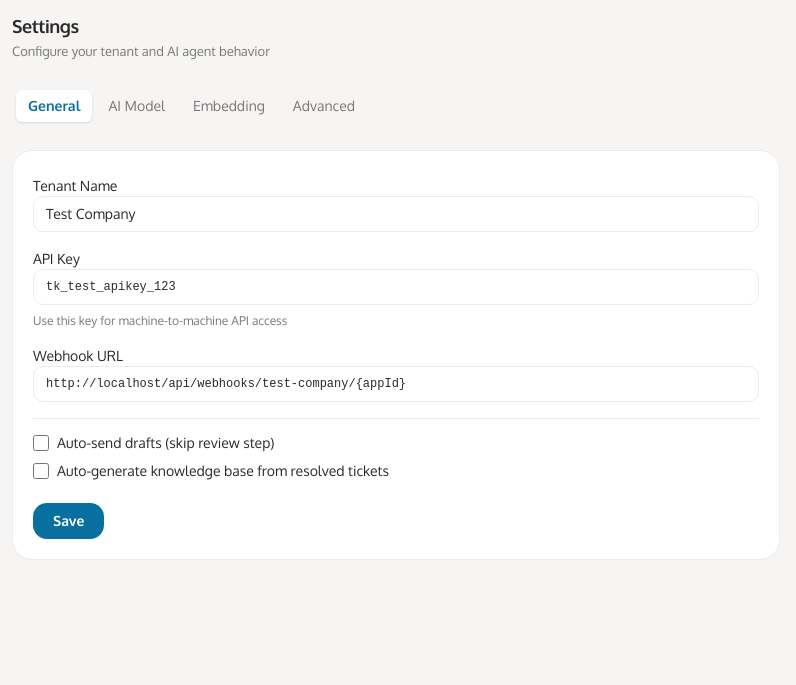
Test: Settings – AI Configuration tab › shows AI fields after clicking the tab
What coordinates should you click on to do the following:
click the tab "AI Model"
I would click on:
 (137, 106)
Its box is [96,90,177,122].
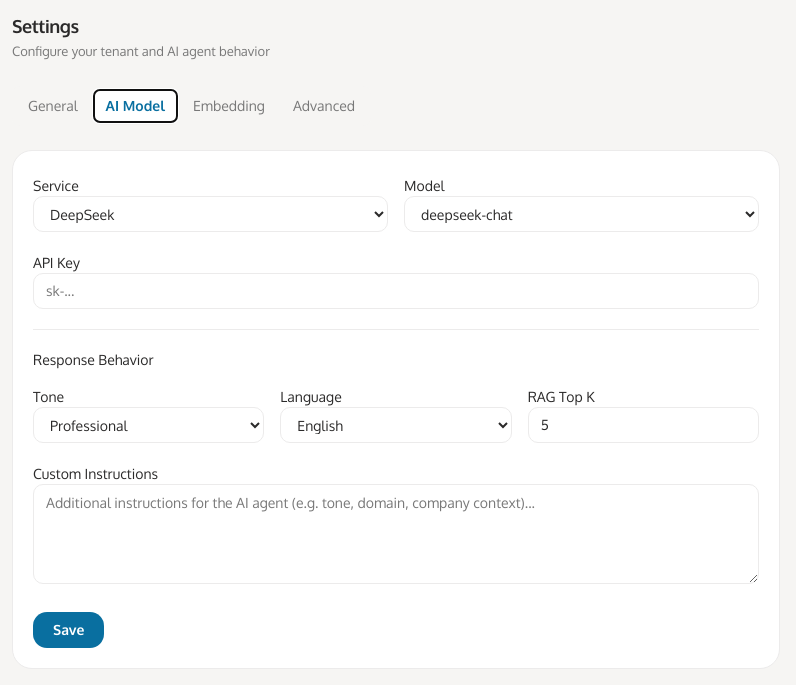
Check: the dropdown with id "ai_model" shows "deepseek-chat", box [404,196,759,232]
Check: the number field labelled "RAG Top K" holds "5", box [528,406,759,442]
